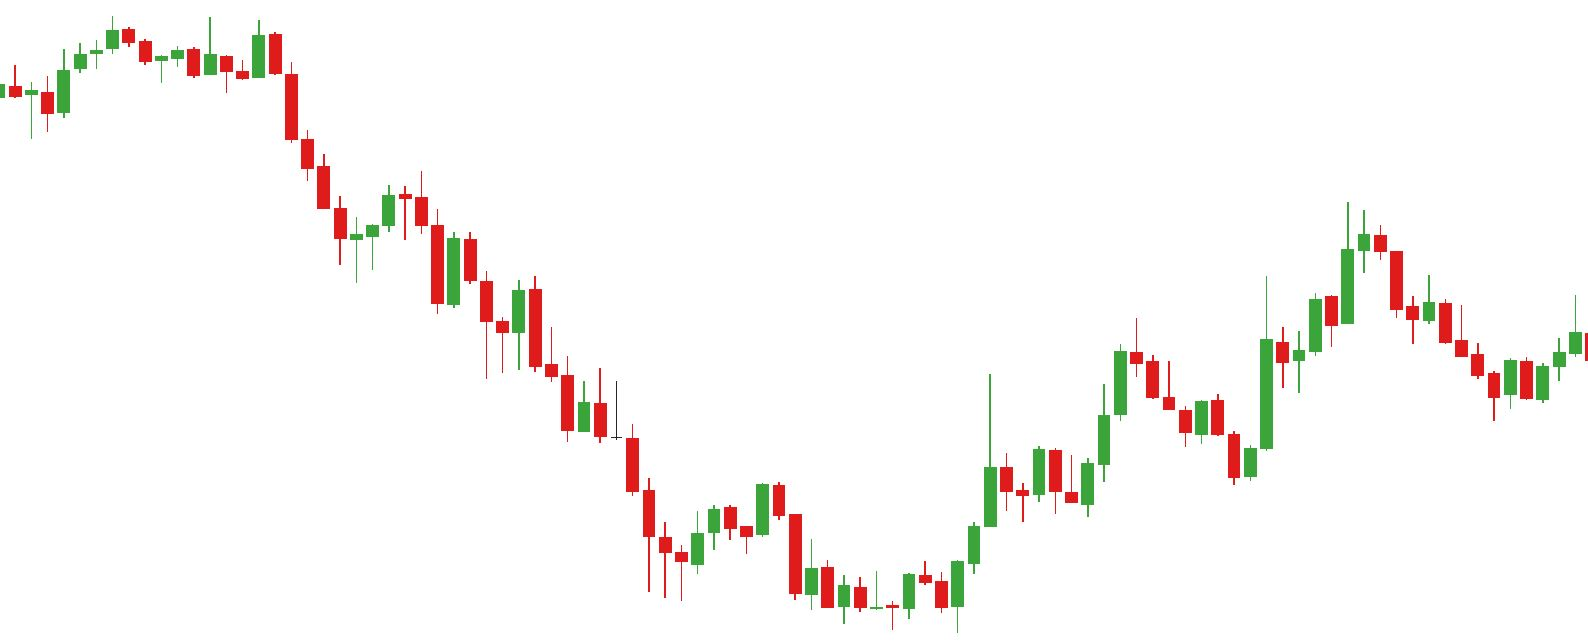buy: (655, 524, 818, 613)
